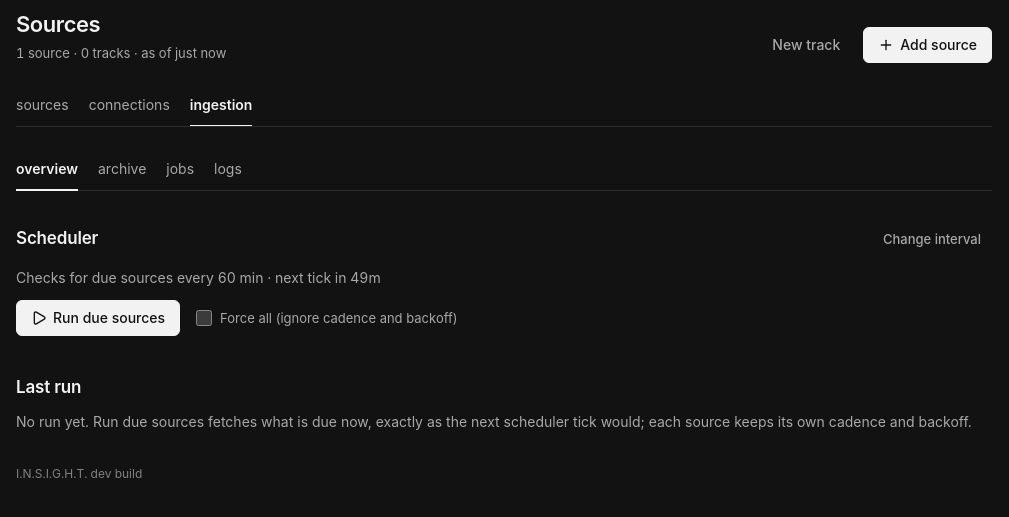
it: Sources → ingestion tab › a URL-named source is named from its address, never by its id (issue 0027)
Click the link "archive".
click(122, 169)  # box x1=98 y1=160 x2=146 y2=177
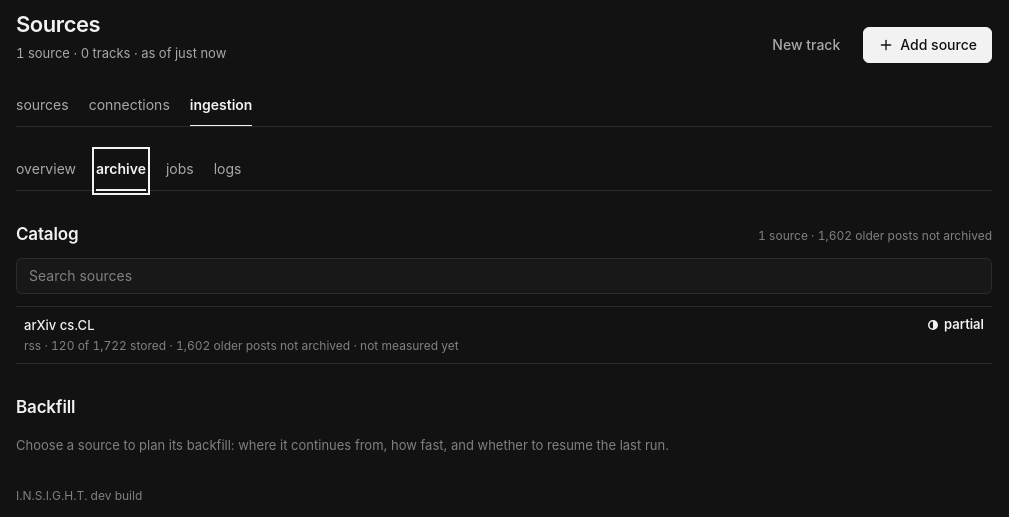
expect the element "Catalog" does not show "00000000-0000-4000-8000-000000000042": met, box x1=16 y1=223 x2=992 y2=364
expect the text "arXiv cs.CL" is shown: met, box x1=24 y1=315 x2=94 y2=335
